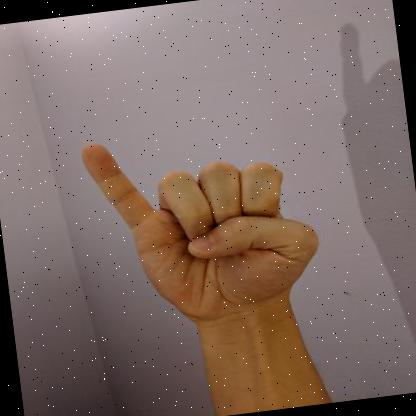I: (81, 142, 318, 324)
